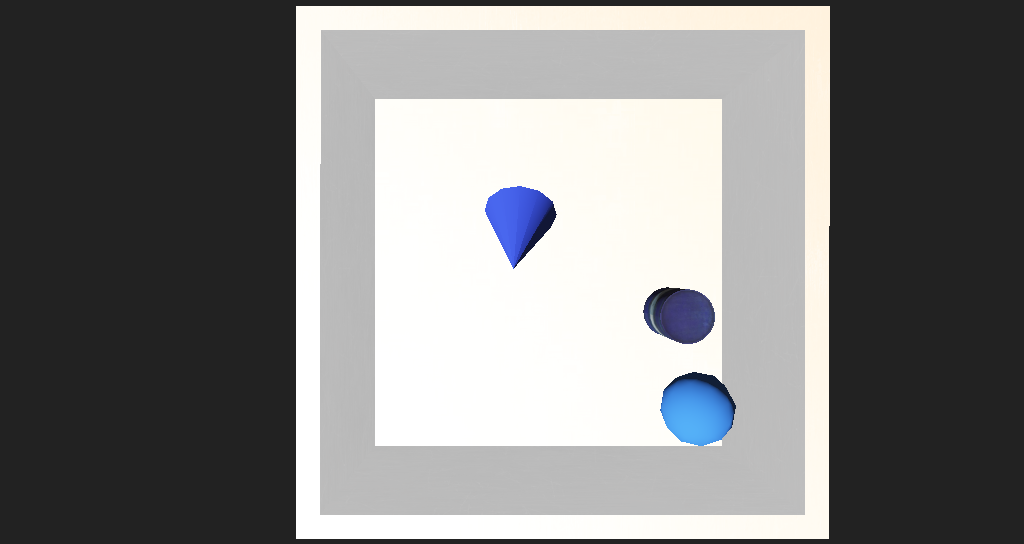cone: (589, 279, 650, 313)
cylinder: (441, 212, 515, 284)
sphere: (600, 332, 667, 375)
